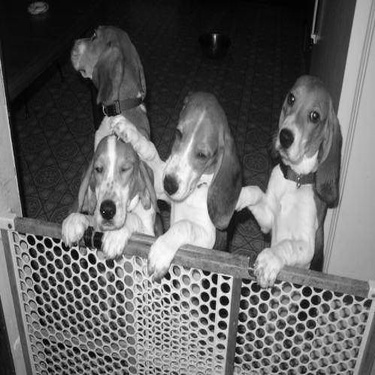dog: (107, 86, 244, 370), (234, 70, 347, 372), (58, 125, 157, 360), (61, 14, 153, 265)
